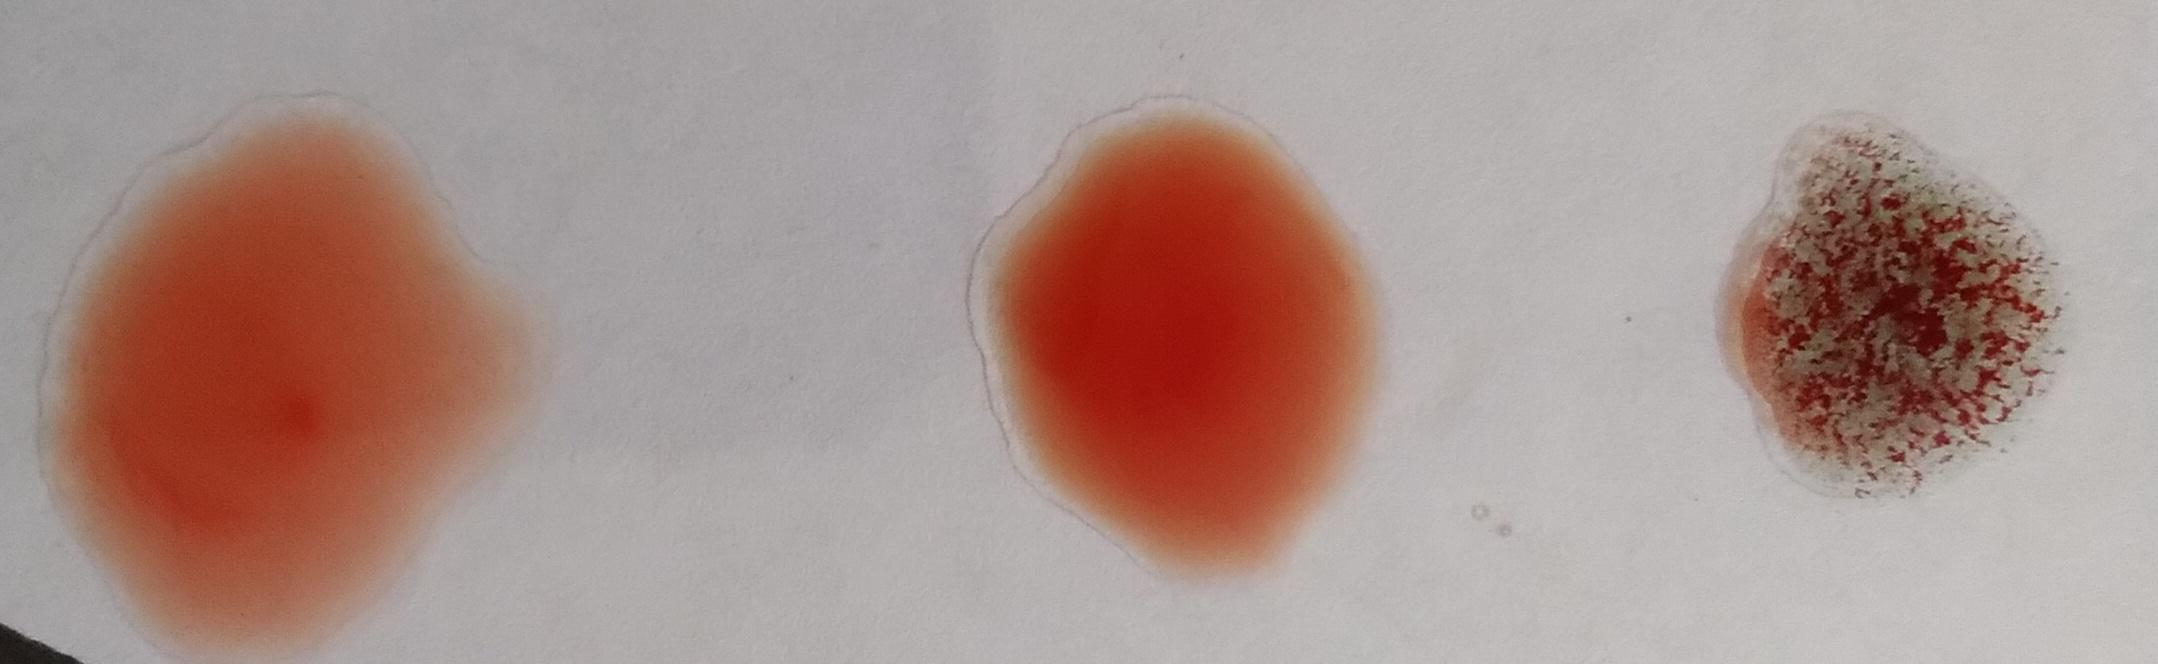A: (1719, 110, 2059, 497)
